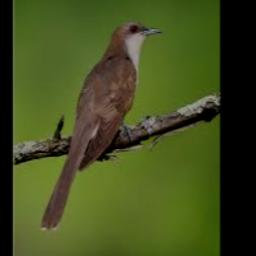Cuckoo: (41, 22, 163, 229)
